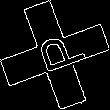P_W: (25, 29, 85, 81)
